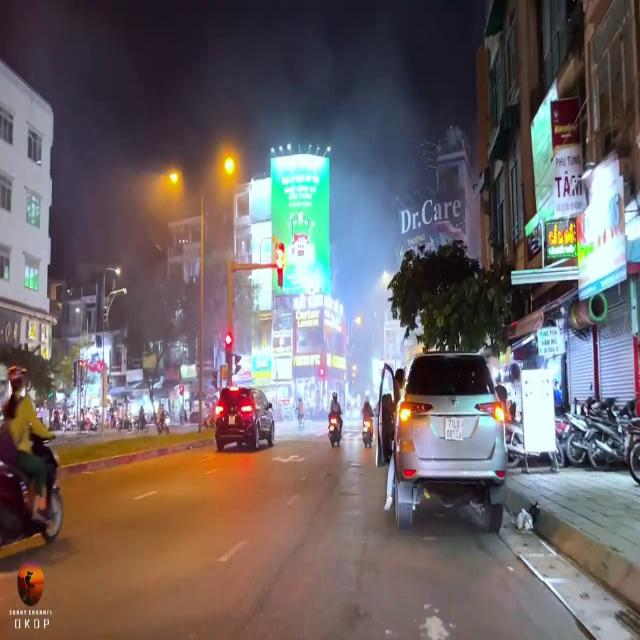bien_trang: (445, 414, 464, 442)
